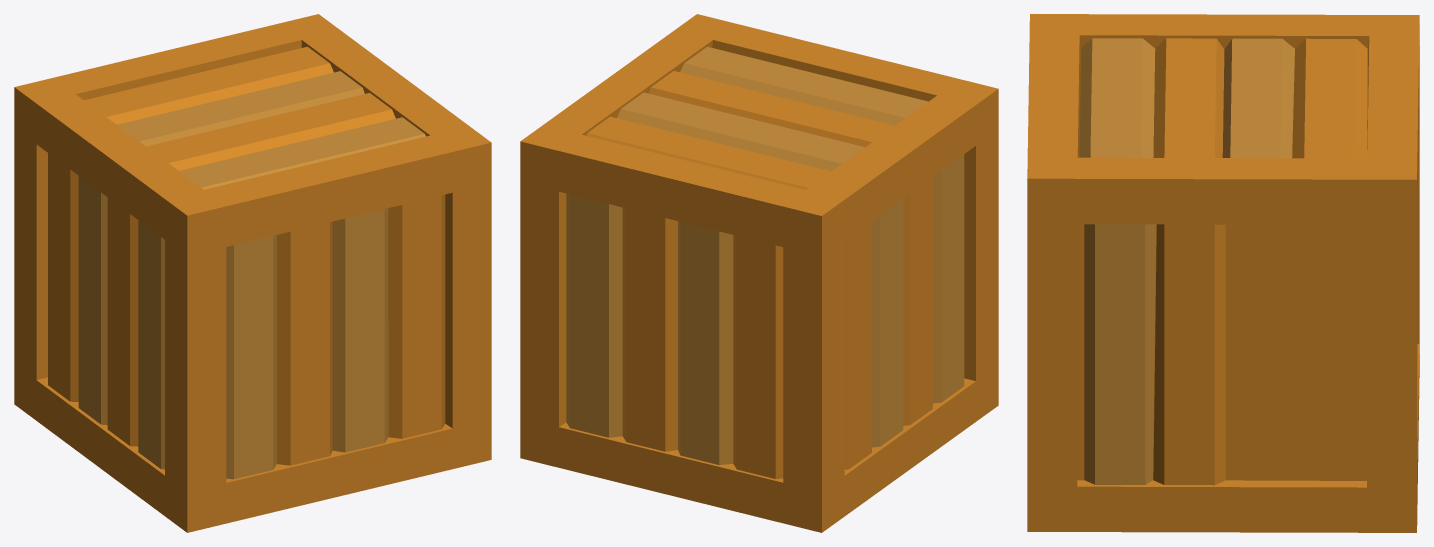
Rendered from boxEnv.fbx.
3 renders of one model, left to right at view 1: azimuth 30°, elevation 25°; view 2: azimuth 150°, elevation 25°; view 3: azimuth 270°, elevation 25°, orthographic. The views are drawn at different scales.
Parts seen in each view (by area): view 1: boxEnv; view 2: boxEnv; view 3: boxEnv.
Part boxes in pixels (<box>): boxEnv: <box>14,14,491,532</box>; boxEnv: <box>520,14,998,532</box>; boxEnv: <box>1027,14,1419,532</box>.
Size of the model in its own units: 0.298 by 0.296 by 0.298.
